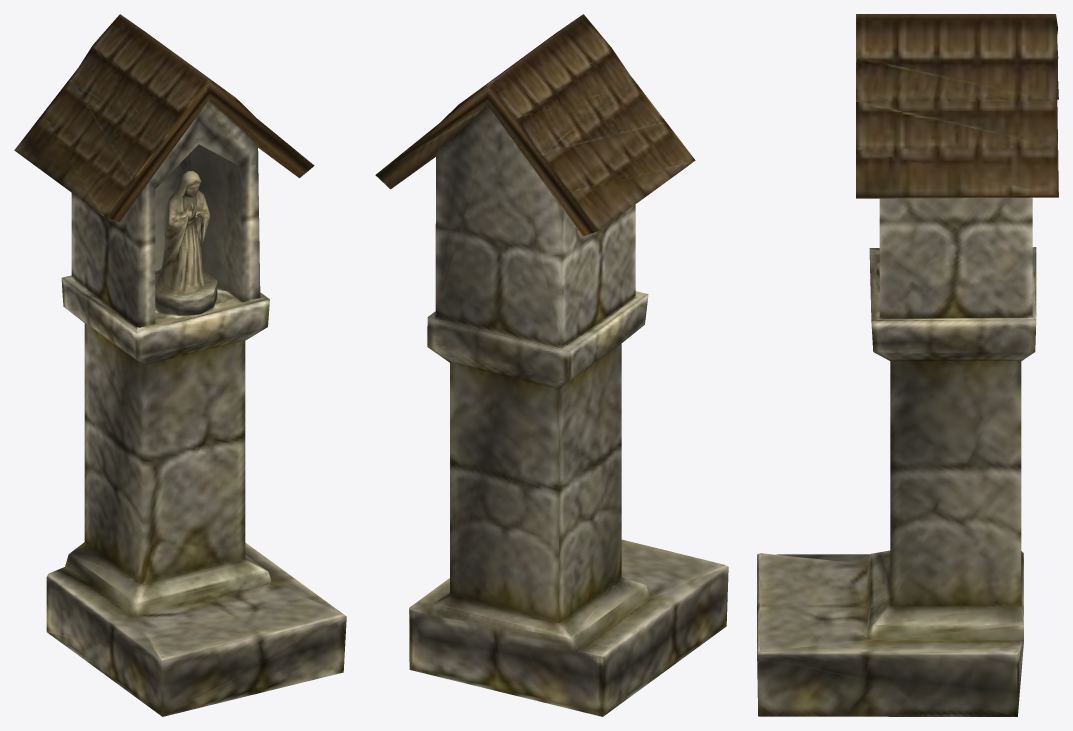
File: prop-shrine.glb
3 renders of one model, left to right at view 1: azimuth 30°, elevation 25°; view 2: azimuth 150°, elevation 25°; view 3: azimuth 270°, elevation 25°, orthographic. The views are drawn at different scales.
Size of the model in its own units: 0.3589 by 0.9517 by 0.3984.
Materials: 1 (1 with a texture image).
